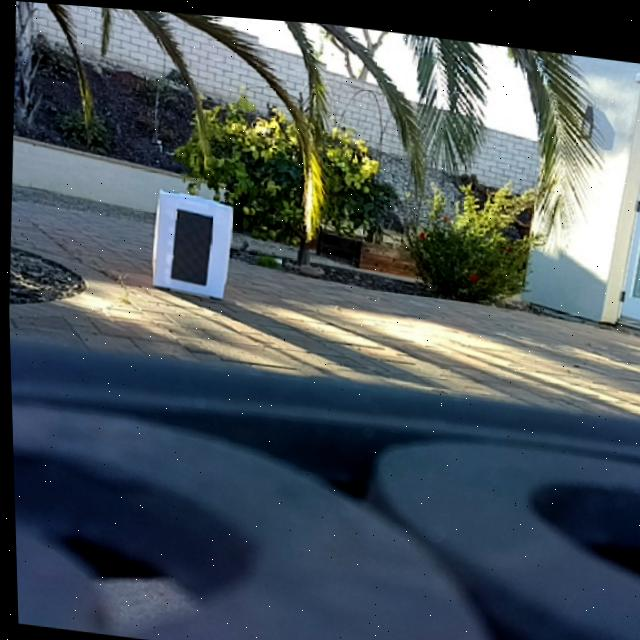led: (168, 207, 215, 284)
